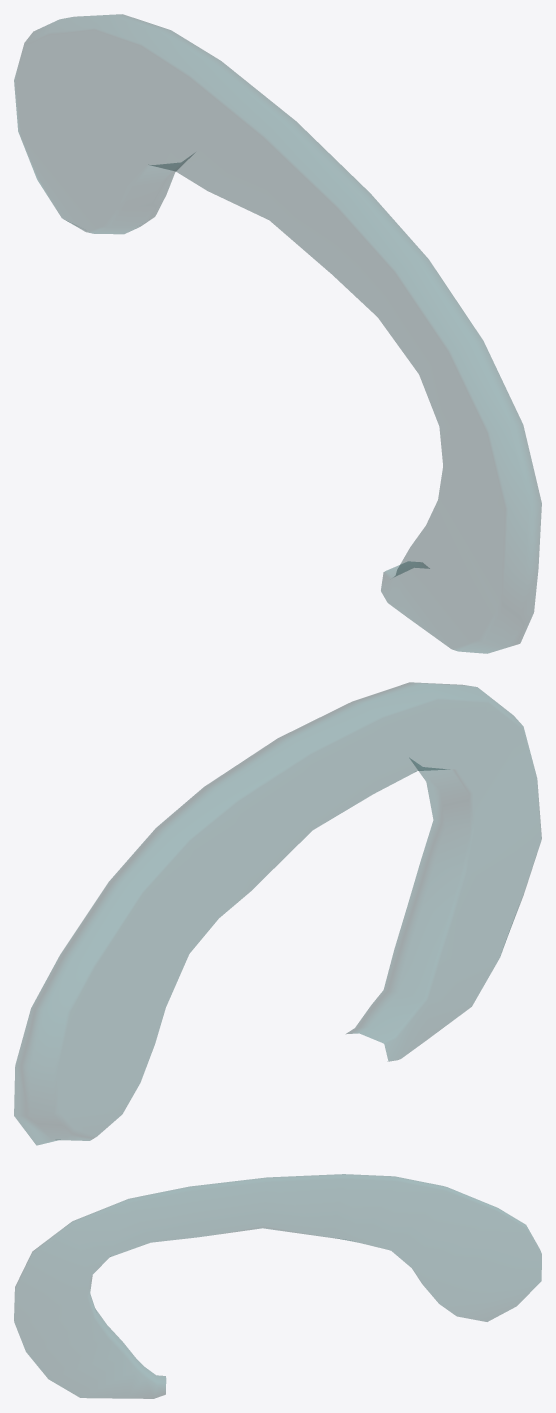
Rendered from Transperent Corpus_Callosum.gltf.
The picture shows the model from 3 angles, top to bottom: view 1: azimuth 30°, elevation 25°; view 2: azimuth 150°, elevation 25°; view 3: azimuth 270°, elevation 25°; orthographic projection. The views are drawn at different scales.
Visible parts, largest first — view 1: Corpus_Callosum; view 2: Corpus_Callosum; view 3: Corpus_Callosum.
Part boxes in pixels (<box>): Corpus_Callosum: <box>14,14,541,653</box>; Corpus_Callosum: <box>14,682,541,1145</box>; Corpus_Callosum: <box>14,1174,541,1398</box>.
Bounding box in the file's own units: 0.5957 × 3.74 × 8.27.
